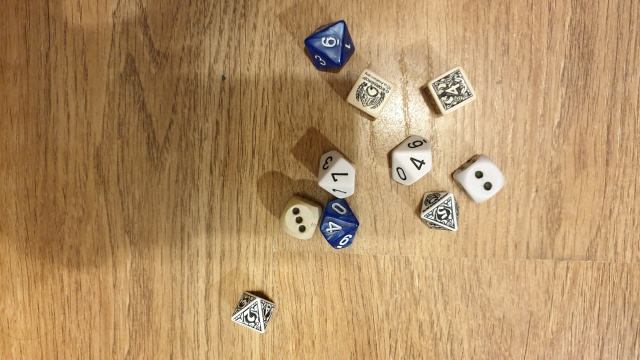d10-4: (383, 127, 436, 192), (318, 190, 364, 257)
d10-6: (300, 15, 360, 75)
d10-7: (310, 144, 363, 202)
d6-2: (451, 150, 506, 209)
d6-3: (275, 189, 322, 244)
d6p-4: (423, 62, 481, 121)
d6p-6: (342, 64, 396, 122)
d8p-2: (225, 281, 279, 336)
d8p-5: (418, 187, 461, 237)
